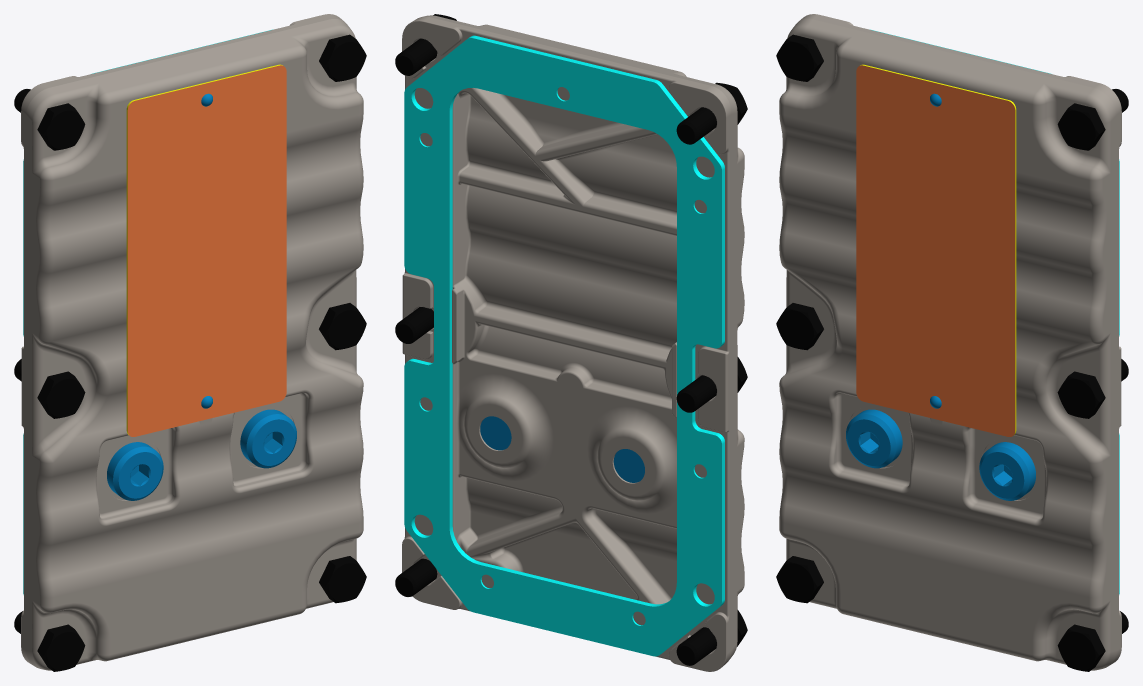
File: Getriebedeckel.fbx
3 views of the same model, side by side, from view 1: azimuth 30°, elevation 25°; view 2: azimuth 150°, elevation 25°; view 3: azimuth 330°, elevation 25° (orthographic).
Visible parts, largest first — view 1: Body1 (×7), Body2, Body5, Body7; view 2: Body1 (×7), Body6, Body5, Body7; view 3: Body1 (×7), Body2, Body7, Body5.
Boxes of the visible parts, bbox=[...] form: Body1 (×7): bbox=[14, 14, 366, 671]; Body2: bbox=[126, 64, 286, 436]; Body5: bbox=[240, 409, 296, 468]; Body7: bbox=[107, 442, 163, 500]; Body1 (×7): bbox=[395, 14, 747, 671]; Body6: bbox=[404, 35, 724, 656]; Body5: bbox=[480, 416, 511, 450]; Body7: bbox=[613, 449, 644, 482]; Body1 (×7): bbox=[776, 14, 1128, 671]; Body2: bbox=[856, 64, 1016, 436]; Body7: bbox=[846, 409, 902, 468]; Body5: bbox=[979, 442, 1035, 500].
Bounding box in the file's own units: 89.99 × 154 × 21.47.
